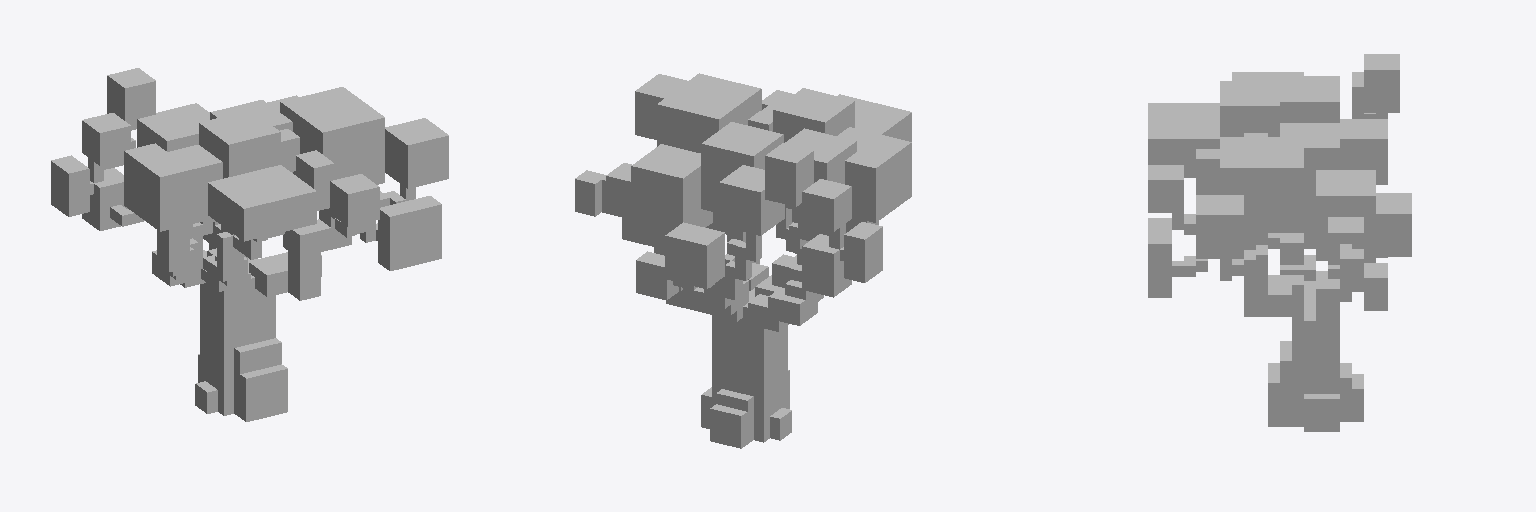
File: SnowyTree.obj
The picture shows the model from 3 angles: view 1: azimuth 30°, elevation 25°; view 2: azimuth 150°, elevation 25°; view 3: azimuth 270°, elevation 25°; orthographic projection.
Visible parts, largest first — view 1: object 1; view 2: object 1; view 3: object 1.
Boxes of the visible parts, x1=… form: object 1: x1=51, y1=68, x2=448, y2=421; object 1: x1=575, y1=73, x2=911, y2=448; object 1: x1=1148, y1=54, x2=1411, y2=431.
Size of the model in its own units: 2.9 by 2.9 by 2.2.